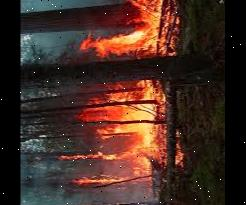fire: (68, 80, 184, 184), (75, 0, 183, 56)
